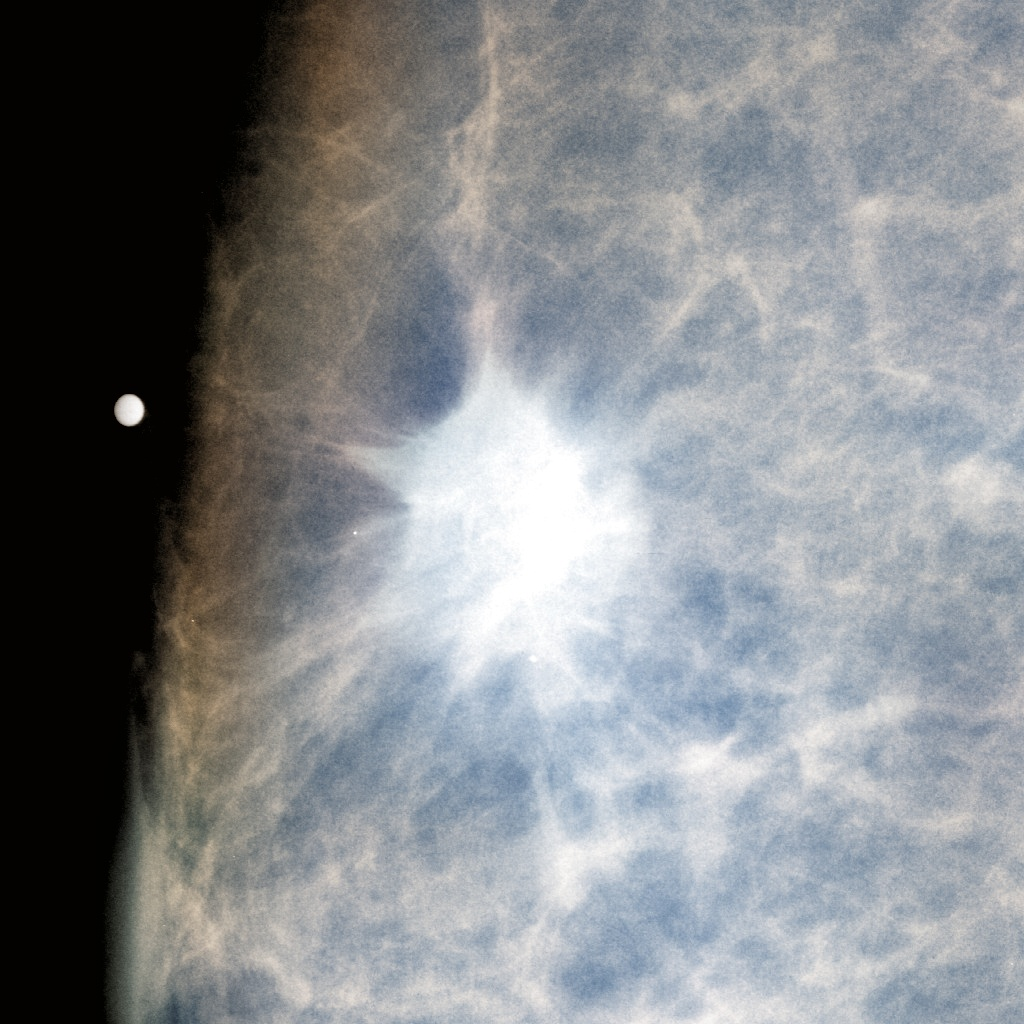tumor: (343, 302, 681, 722)
